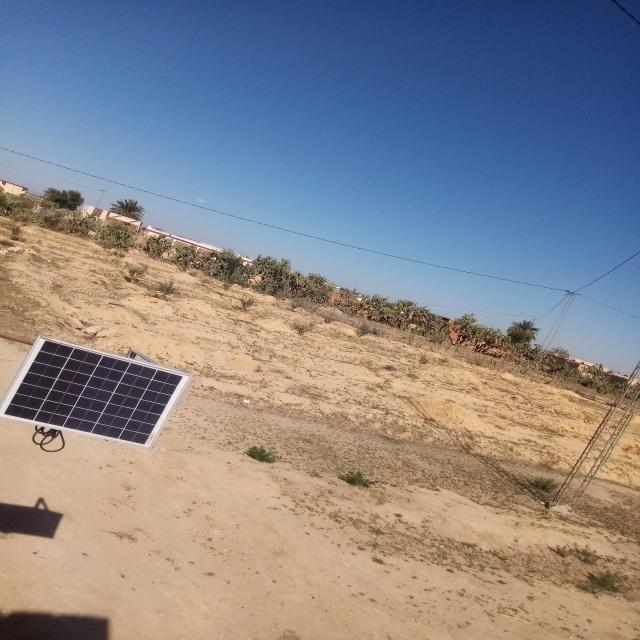Normal Solar Panel: (1, 337, 192, 447)
